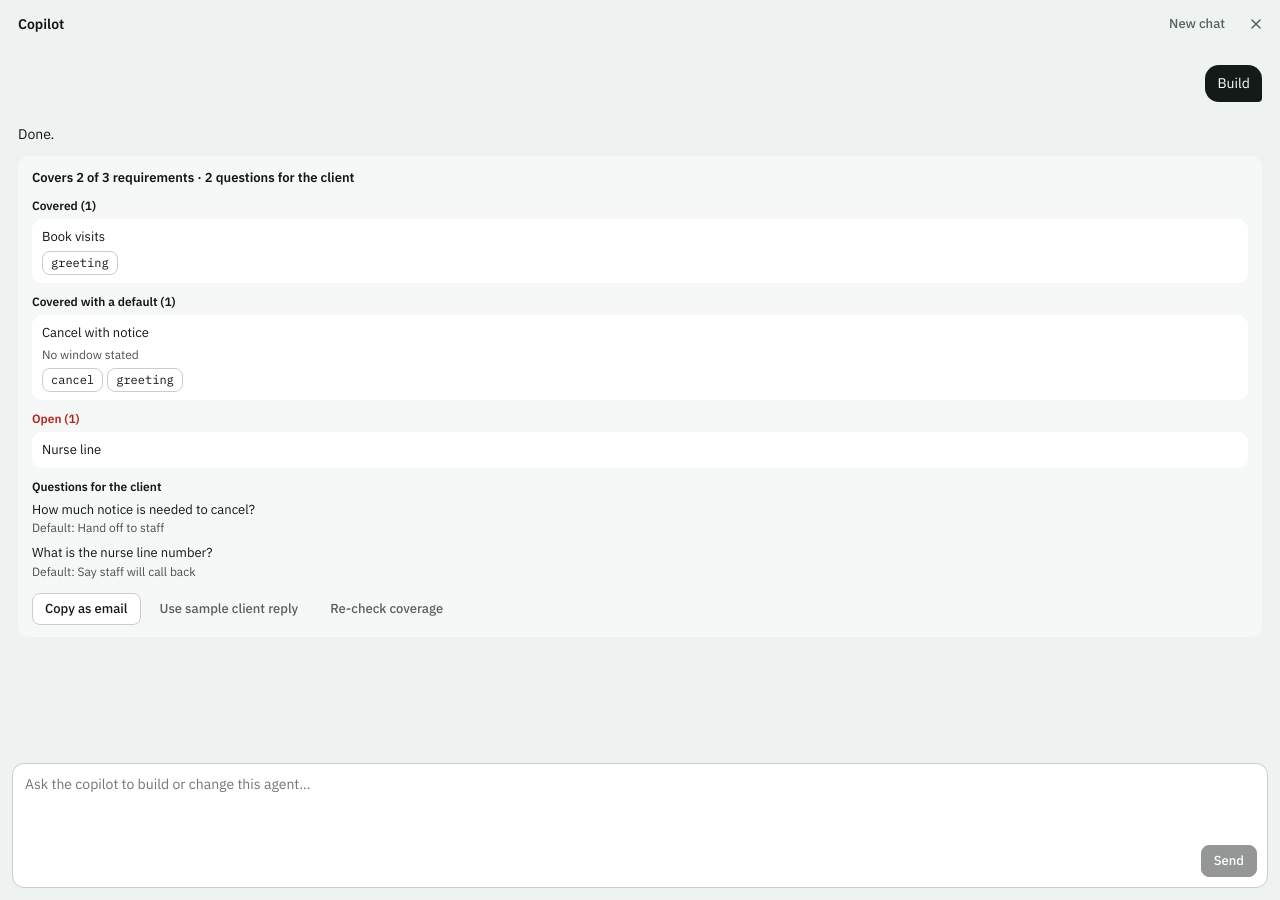
Test: CoverageCard › offers each sample's own reply, whichever sample the guidelines equal
This screenshot has width=1280, height=900.
Click the button "Use sample client reply": [229, 609] box x1=146 y1=593 x2=311 y2=625
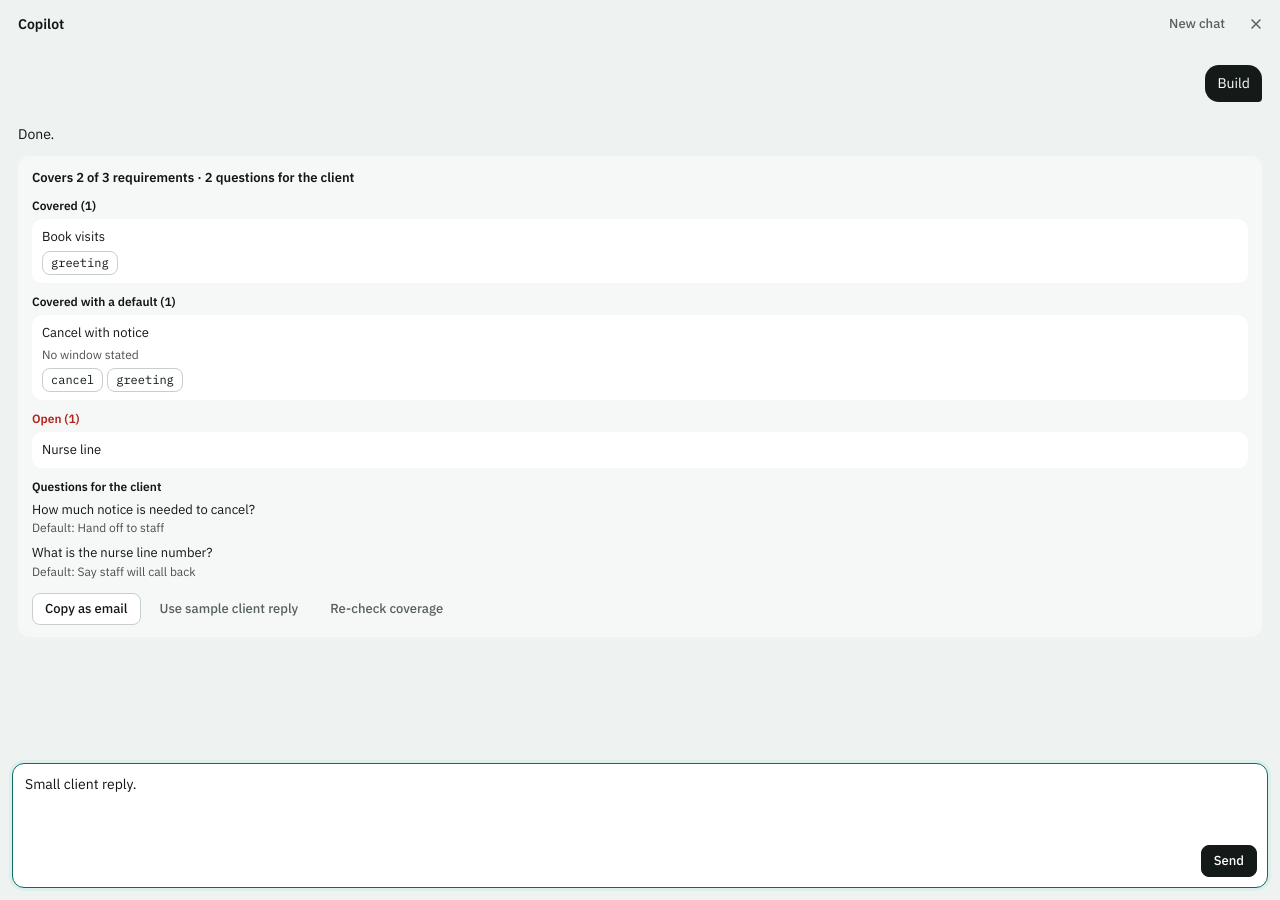
Expected: the text box named "Message to the copilot" holds "Small client reply.", x1=23 y1=774 x2=1257 y2=837
